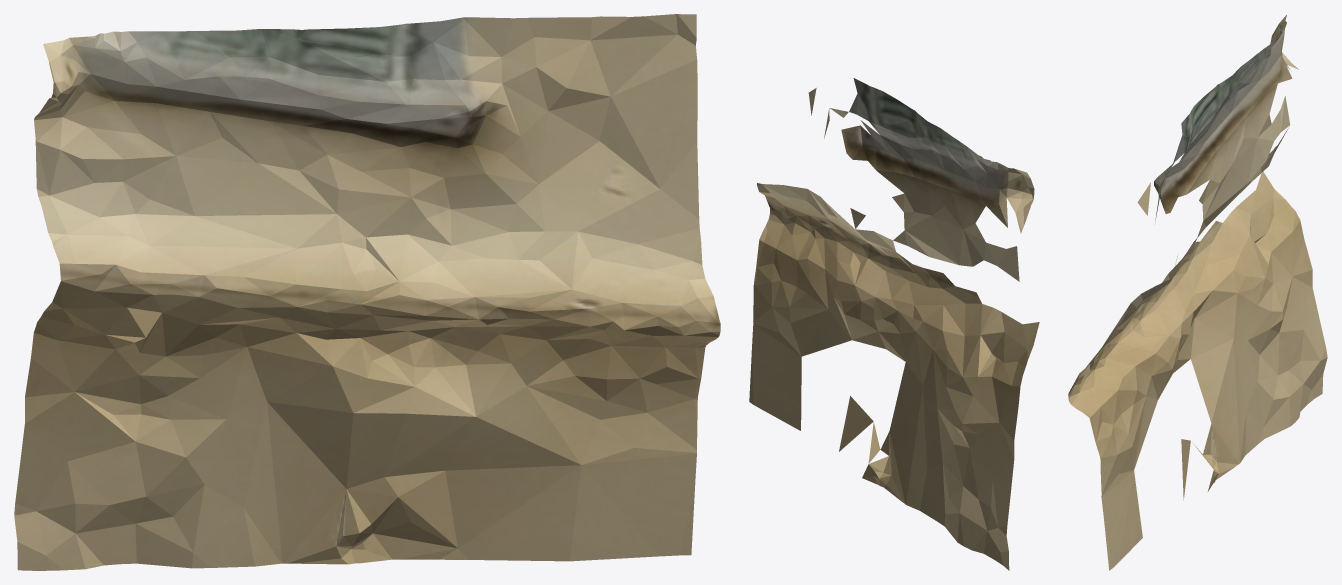
3 renders of one model, left to right at view 1: azimuth 30°, elevation 25°; view 2: azimuth 150°, elevation 25°; view 3: azimuth 270°, elevation 25°, orthographic. The views are drawn at different scales.
Bounding box in the file's own units: 1.67 × 1.67 × 1.04.
Materials: 3 (3 with a texture image).
